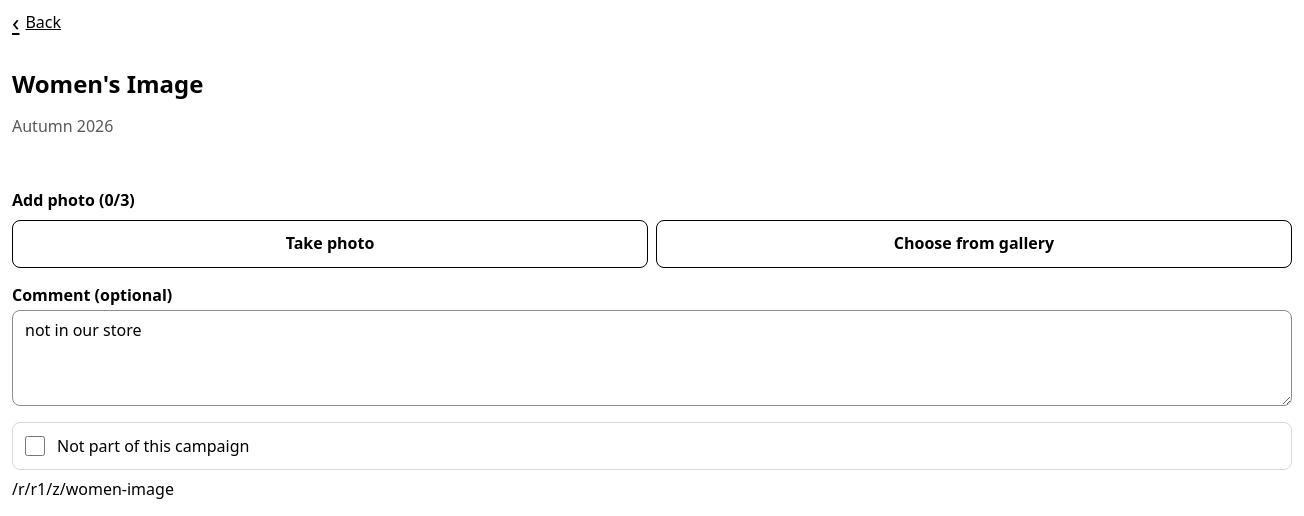
Test: DraftZonePage: not part of this campaign › turning it on saves at once, keeps the comment and blocks adding photos
The image size is (1304, 516).
Step 1. Click the checkbox labelled "Not part of this campaign" → (35, 446), box x1=25 y1=436 x2=45 y2=456
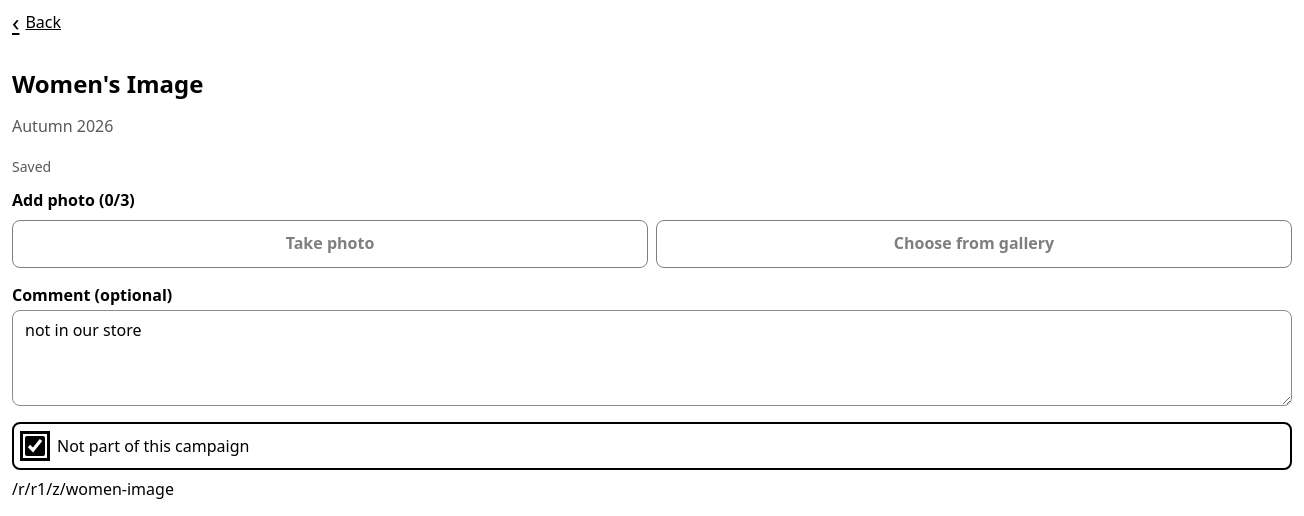
Check: the checkbox labelled "Not part of this campaign" is checked, box x1=25 y1=436 x2=45 y2=456
Check: the button "Take photo" is disabled, box x1=12 y1=220 x2=648 y2=268
Check: the button "Choose from gallery" is disabled, box x1=656 y1=220 x2=1292 y2=268
